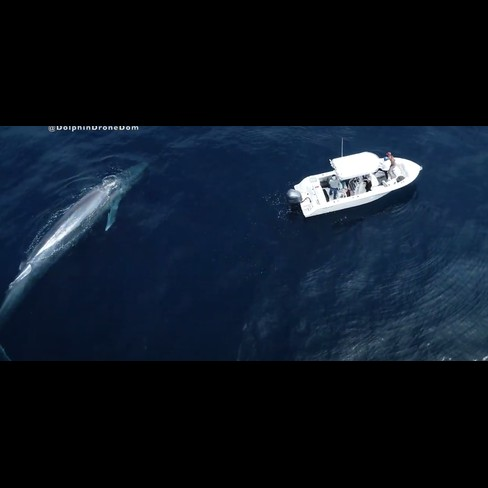bluewhale: (2, 156, 153, 361)
boat: (282, 149, 426, 222)
